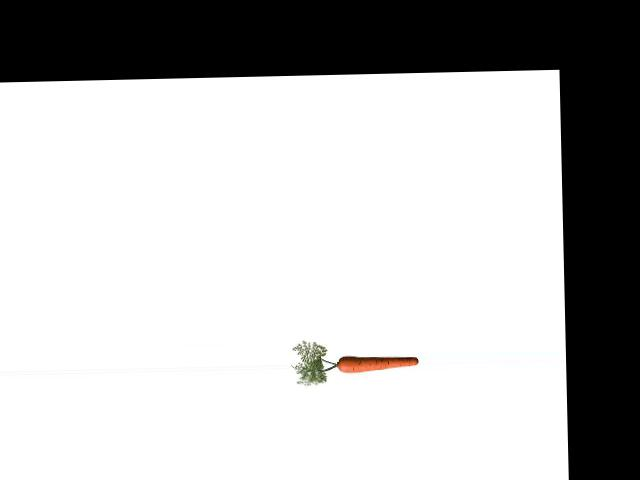carrot: (330, 349, 422, 377)
